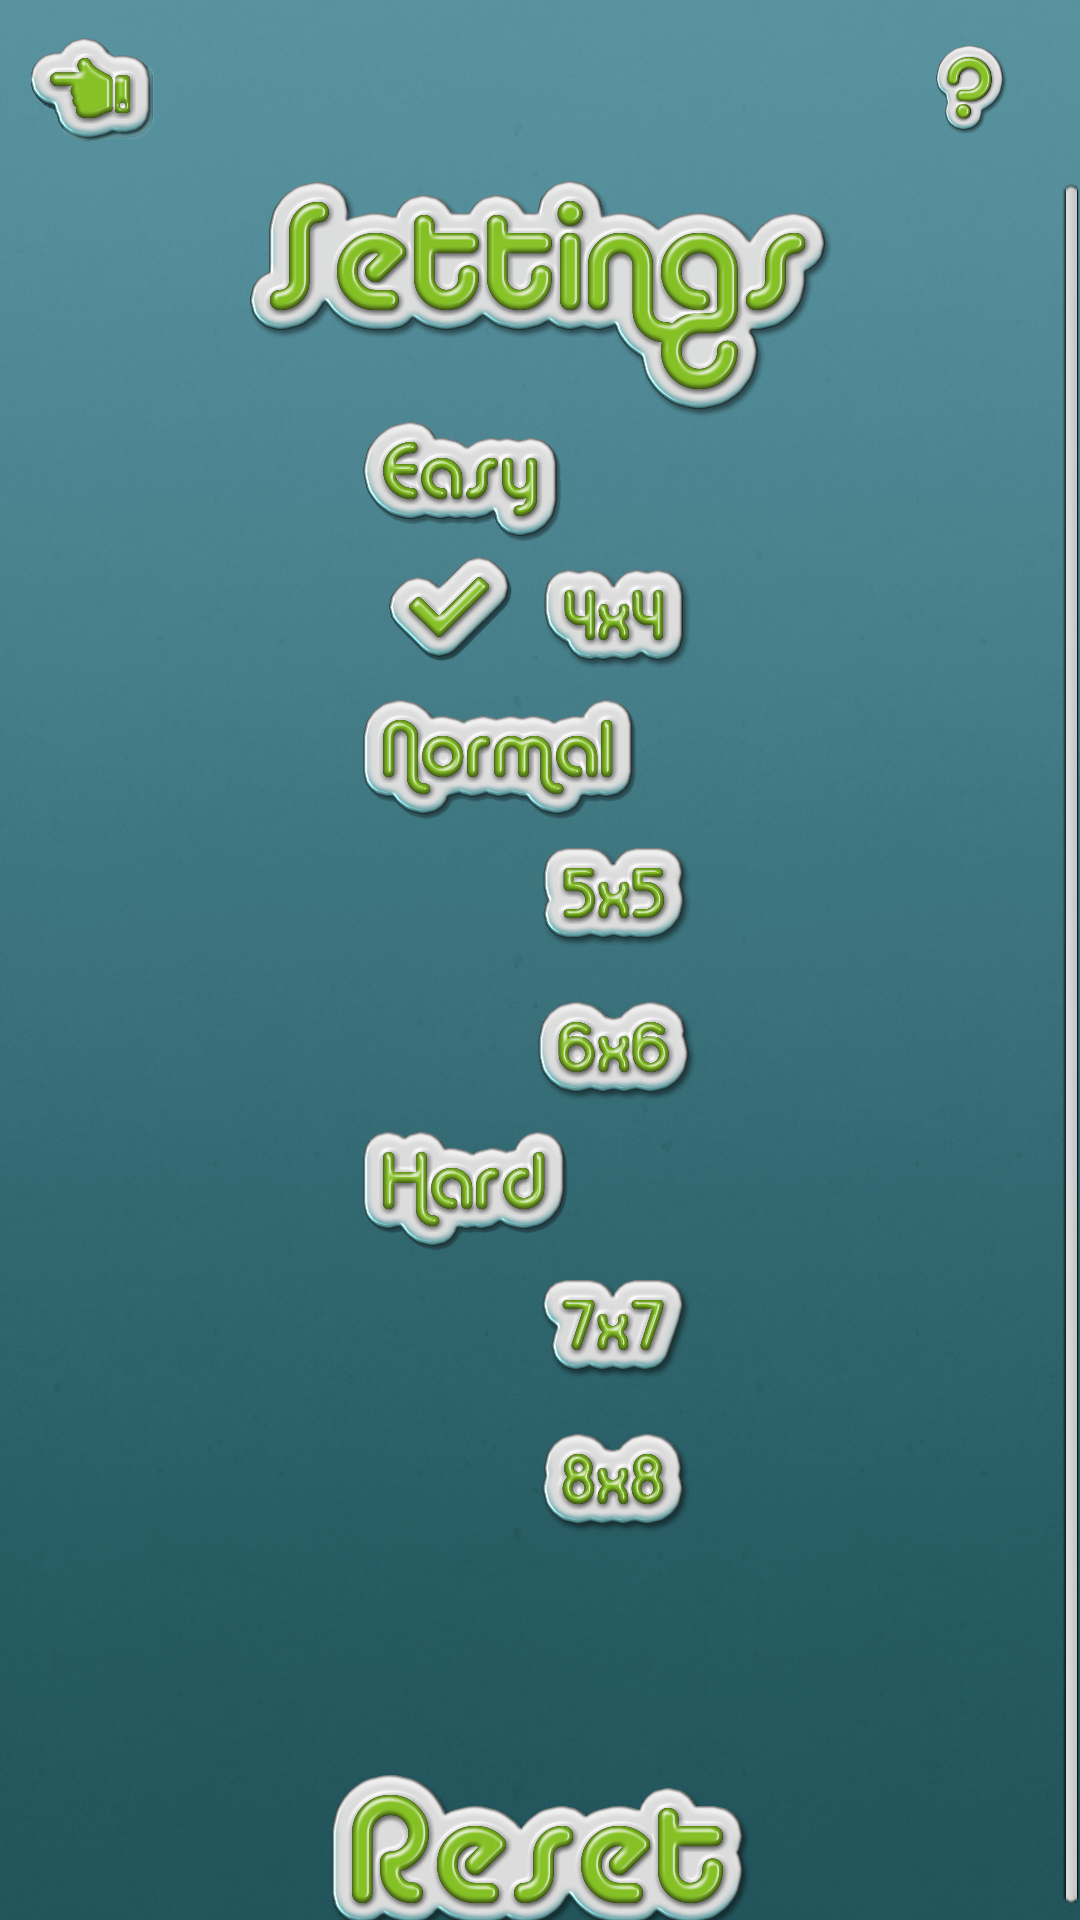

Point at icon controls on the screen. Image size 1080x1920, points as (x,y).
about: (971,89)
left: (92,89)
tick: (450,609)
